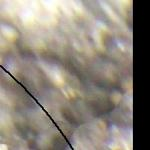alive: (6, 5, 130, 147)
